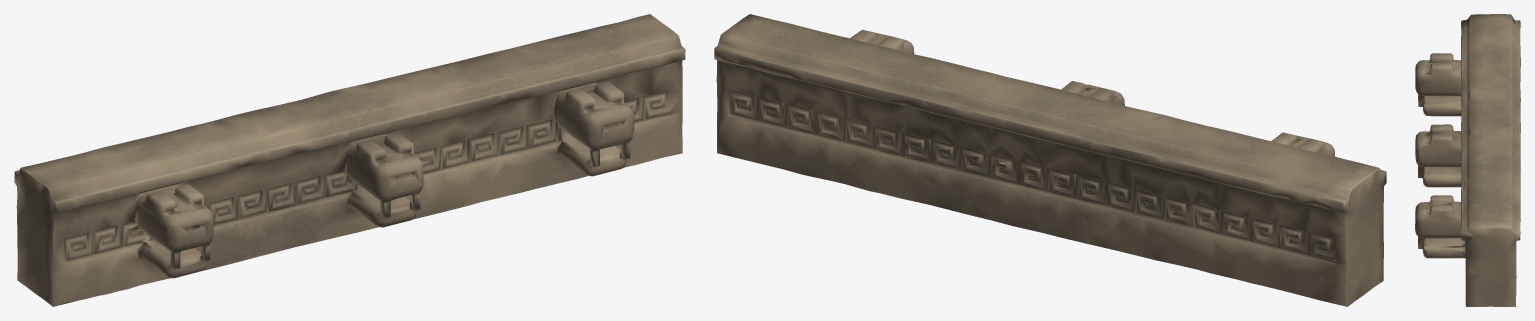
The model's file is serpent-wall-cantera.glb.
3 renders of one model, left to right at view 1: azimuth 30°, elevation 25°; view 2: azimuth 150°, elevation 25°; view 3: azimuth 270°, elevation 25°, orthographic. The views are drawn at different scales.
Parts seen in each view (by area): view 1: serpent_wall; view 2: serpent_wall; view 3: serpent_wall.
Part boxes in pixels (left/top/right/bottom): serpent_wall: left=14, top=14, right=685, bottom=306; serpent_wall: left=714, top=14, right=1386, bottom=306; serpent_wall: left=1415, top=14, right=1520, bottom=306.
Size of the model in its own units: 2 by 0.3537 by 0.4207.
1 material, 1 textured.
